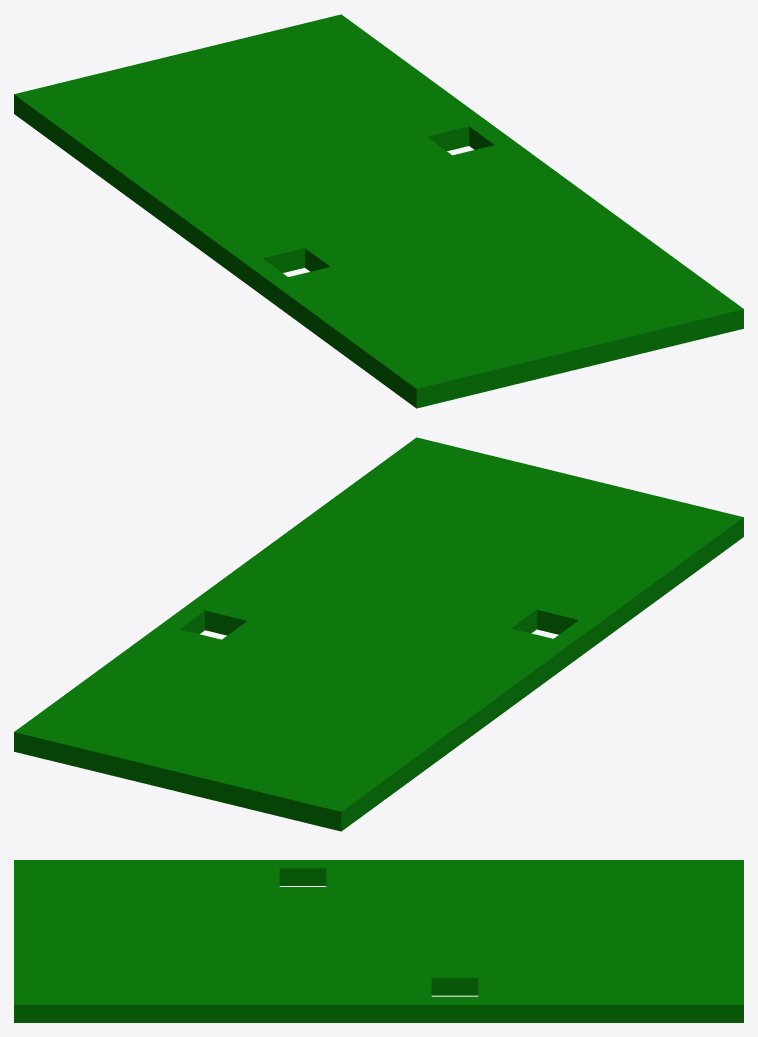
Rendered from Duplex_A_20110907_Roof_IfcSlab.dae.
3 views of the same model, one above another, from view 1: azimuth 30°, elevation 25°; view 2: azimuth 150°, elevation 25°; view 3: azimuth 270°, elevation 25° (orthographic). The views are drawn at different scales.
Parts seen in each view (by area): view 1: 3ThA22djr8AQQ9eQMA5s7I; view 2: 3ThA22djr8AQQ9eQMA5s7I; view 3: 3ThA22djr8AQQ9eQMA5s7I.
Boxes of the visible parts, bbox=[...] form: 3ThA22djr8AQQ9eQMA5s7I: bbox=[14, 14, 743, 408]; 3ThA22djr8AQQ9eQMA5s7I: bbox=[14, 437, 743, 831]; 3ThA22djr8AQQ9eQMA5s7I: bbox=[14, 860, 743, 1022].
Size of the model in its own units: 7.97 by 16.97 by 0.457.
